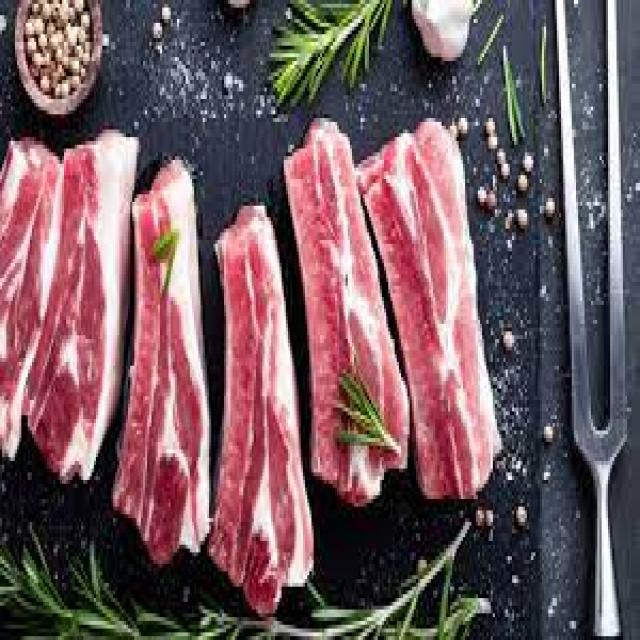pork: (358, 118, 503, 499), (286, 118, 410, 505), (209, 206, 314, 615), (113, 160, 211, 566), (28, 130, 139, 484), (0, 137, 62, 459)
